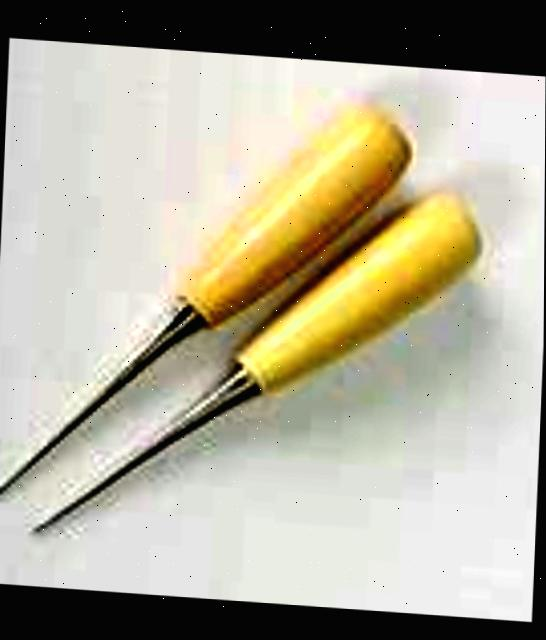ice pick: (0, 76, 417, 535), (24, 165, 479, 567)
